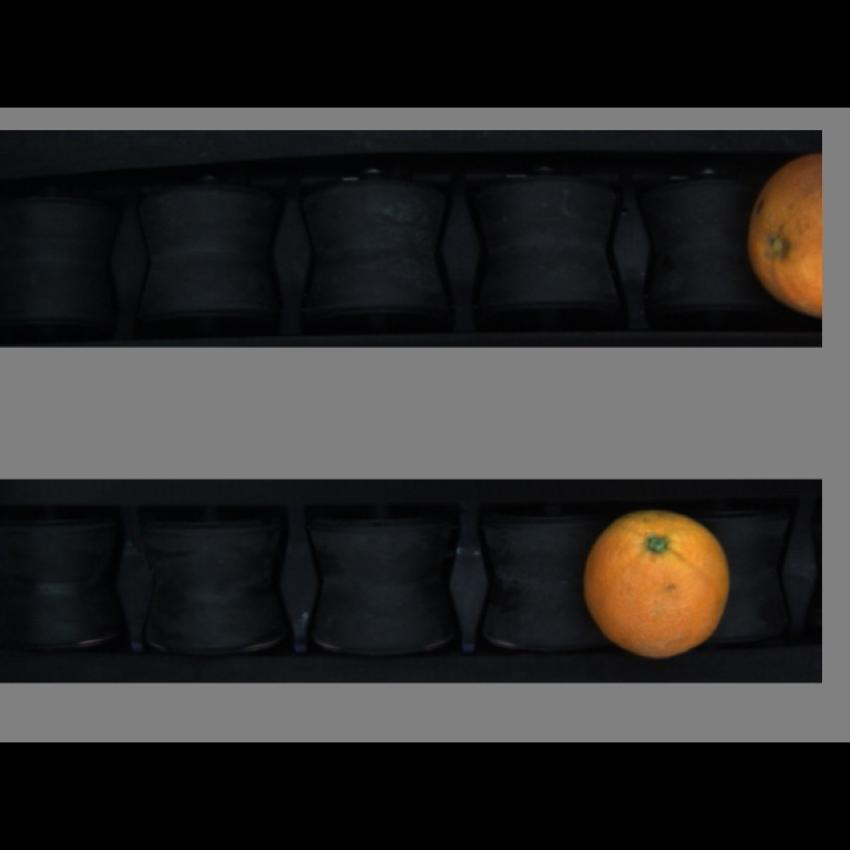Mal estado: (580, 512, 742, 660), (748, 145, 824, 320)
